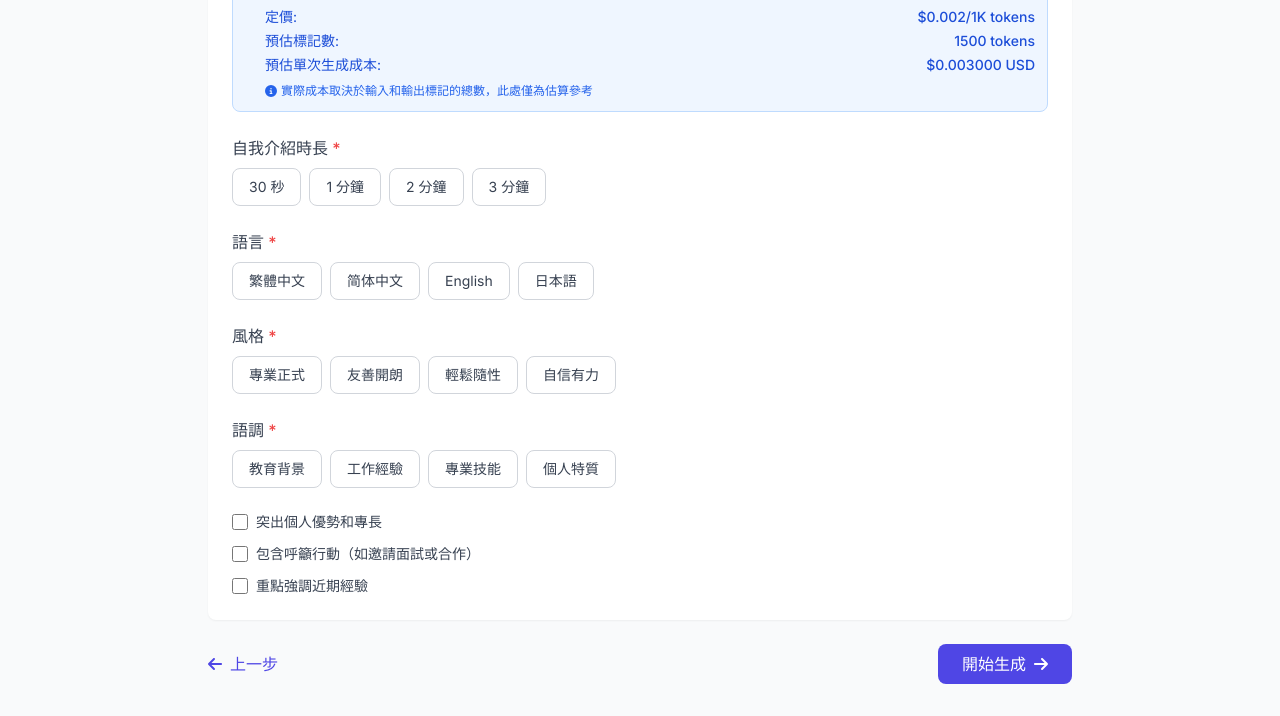
Test: Form Page Validation › should show validation error when all generation settings are not selected
(page scrolled)
# Find the generate button and click it
Step 1. Click the button "開始生成" → click(1005, 664), box x1=938 y1=644 x2=1072 y2=684
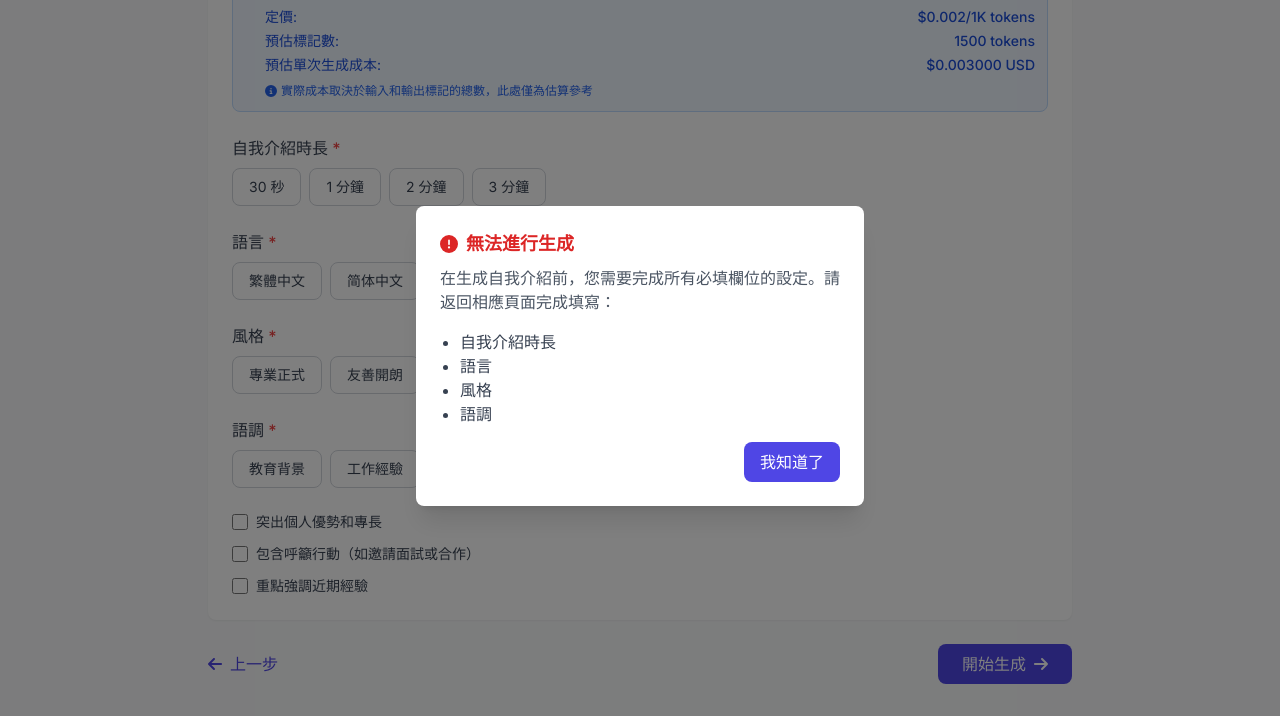
Check: the heading "無法進行生成" is shown, box x1=440 y1=233 x2=574 y2=254
Check: the list item "自我介紹時長" is shown, box x1=460 y1=332 x2=556 y2=352
Check: the list item "語言" is shown, box x1=460 y1=356 x2=492 y2=376
